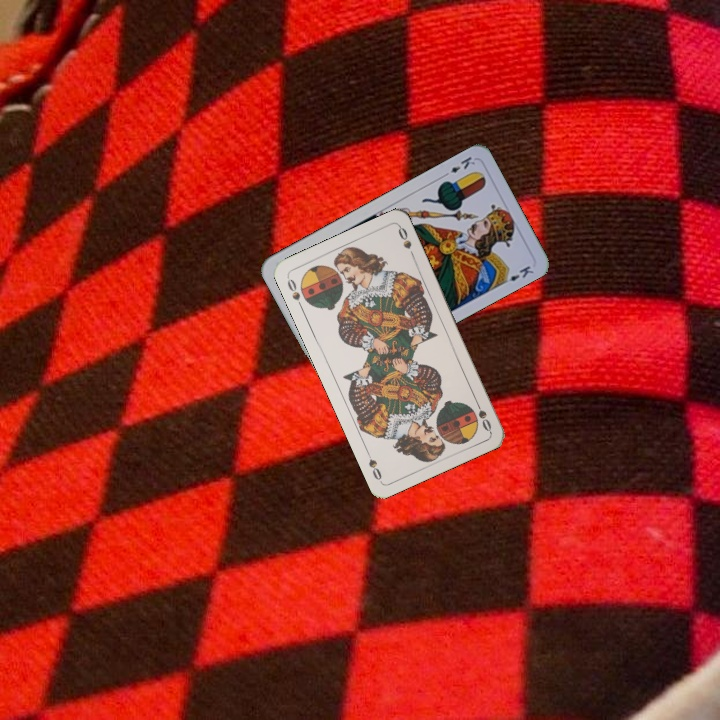EK: (439, 152, 478, 180)
SO: (471, 395, 494, 434), (283, 273, 306, 312)
